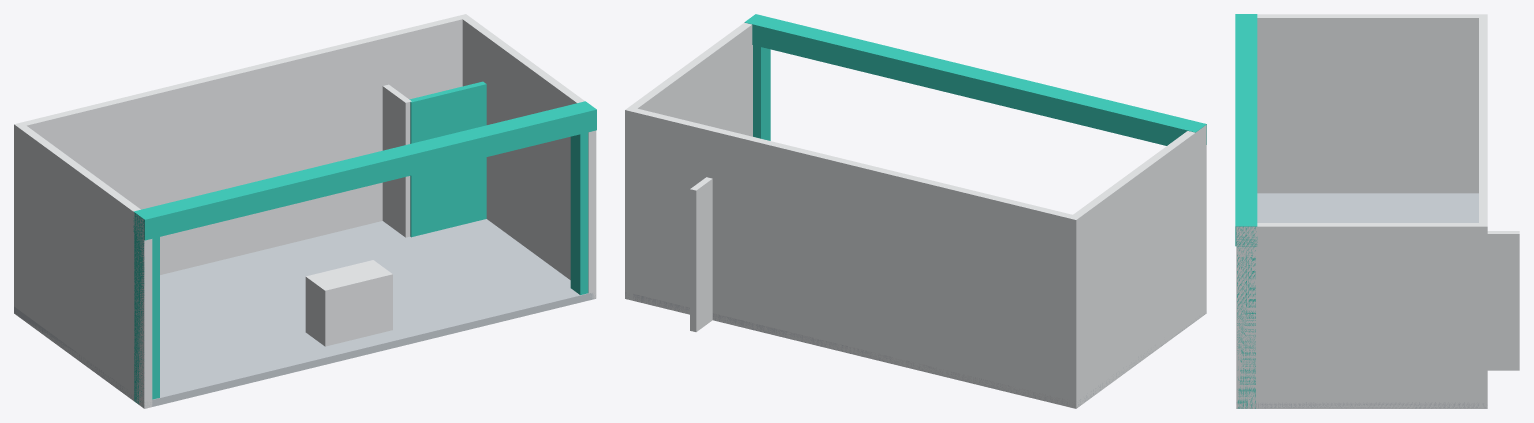
The picture shows the model from 3 angles, left to right: view 1: azimuth 30°, elevation 25°; view 2: azimuth 150°, elevation 25°; view 3: azimuth 270°, elevation 25°; orthographic projection. The views are drawn at different scales.
Visible parts, largest first — view 1: Exhibition Booth Concept; view 2: Exhibition Booth Concept; view 3: Exhibition Booth Concept.
Part boxes in pixels (bbox=[...]): Exhibition Booth Concept: bbox=[14, 14, 596, 408]; Exhibition Booth Concept: bbox=[625, 14, 1206, 408]; Exhibition Booth Concept: bbox=[1235, 14, 1519, 408].
Bounding box in the file's own units: 8 × 3.2 × 4.52.
